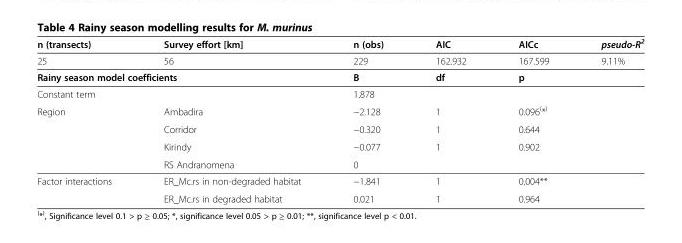table: (36, 36, 643, 203)
table column: (136, 36, 326, 203), (36, 36, 136, 203), (408, 36, 491, 203), (491, 36, 574, 203), (326, 36, 408, 203), (574, 36, 643, 203)
table column header: (36, 36, 643, 52)
table row: (36, 101, 643, 119), (36, 119, 643, 137), (36, 137, 643, 155), (36, 68, 643, 85), (36, 155, 643, 172), (36, 172, 643, 189), (36, 36, 643, 52), (36, 52, 643, 68), (36, 85, 643, 101), (36, 189, 643, 203)
table spanning cell: (36, 101, 136, 172), (36, 68, 326, 85), (36, 85, 326, 101), (36, 172, 136, 203)
